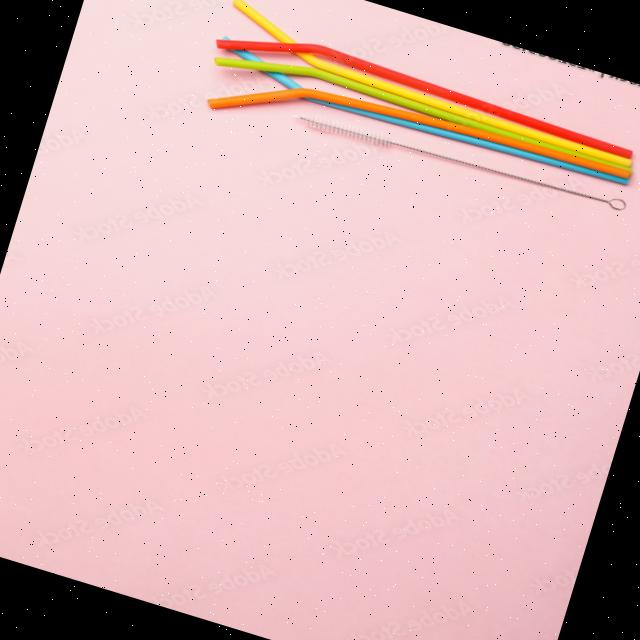plastic: (197, 0, 640, 203)
